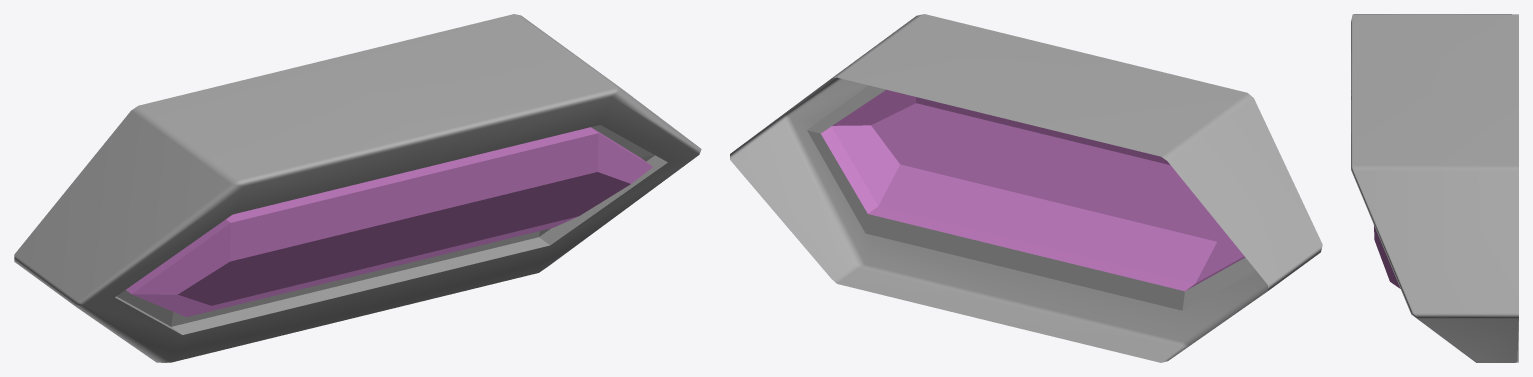
Rendered from S2_Lamp_02.fbx.
3 renders of one model, left to right at view 1: azimuth 30°, elevation 25°; view 2: azimuth 150°, elevation 25°; view 3: azimuth 270°, elevation 25°, orthographic. The views are drawn at different scales.
Parts seen in each view (by area): view 1: polySurface1; view 2: polySurface1; view 3: polySurface1.
Boxes of the visible parts, bbox=[...] form: polySurface1: bbox=[14, 14, 701, 362]; polySurface1: bbox=[730, 14, 1322, 362]; polySurface1: bbox=[1351, 14, 1518, 362].
Size of the model in its own units: 107 by 39.33 by 30.34.
